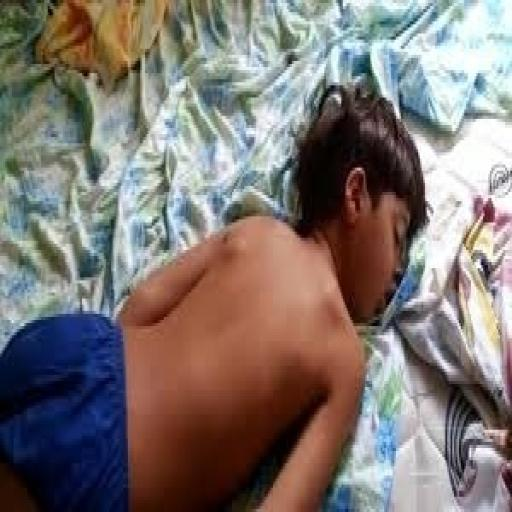sleeping: (2, 76, 430, 509)
